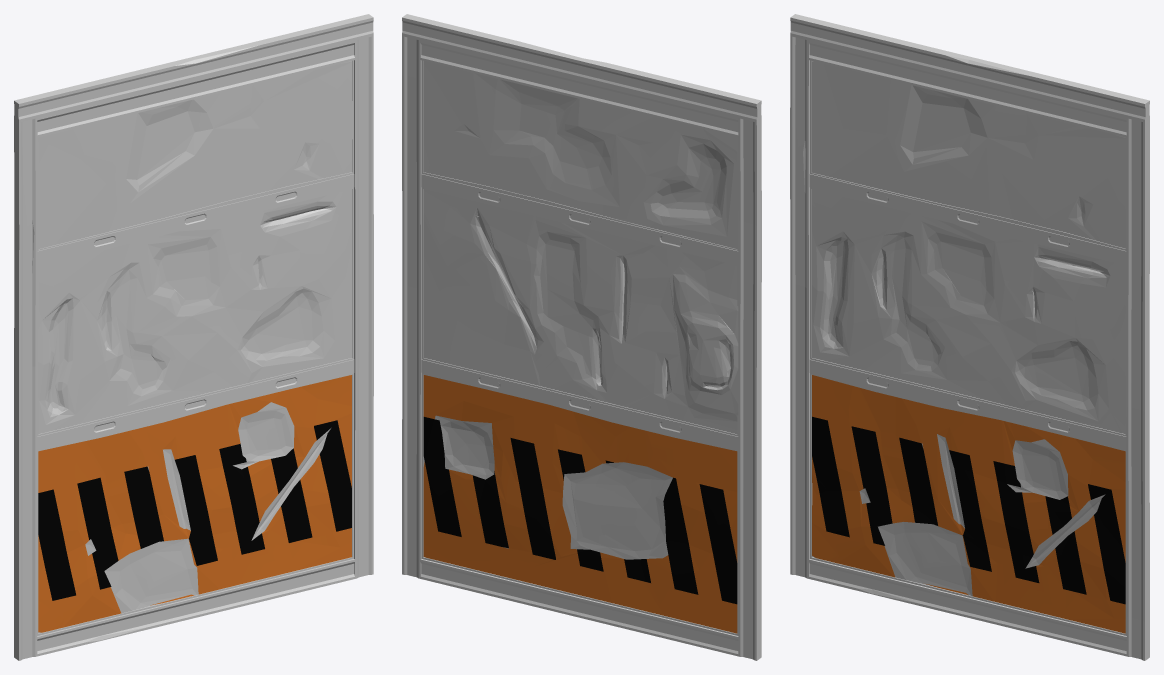
Rendered from SM_Wall_Broken_02.glb.
3 renders of one model, left to right at view 1: azimuth 30°, elevation 25°; view 2: azimuth 150°, elevation 25°; view 3: azimuth 330°, elevation 25°, orthographic.
Parts seen in each view (by area): view 1: SM_Wall_Broken_02; view 2: SM_Wall_Broken_02; view 3: SM_Wall_Broken_02.
Boxes of the visible parts, x1,y1,x2,y2 form: SM_Wall_Broken_02: [14, 14, 373, 660]; SM_Wall_Broken_02: [402, 14, 761, 660]; SM_Wall_Broken_02: [790, 14, 1149, 660].
Size of the model in its own units: 2 by 3 by 0.0572.
